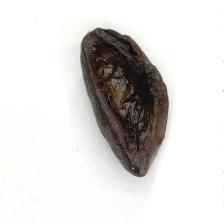NG: (84, 28, 158, 155)
